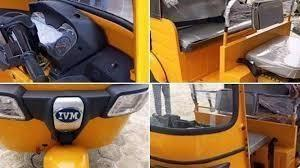keke: (152, 84, 299, 168)
